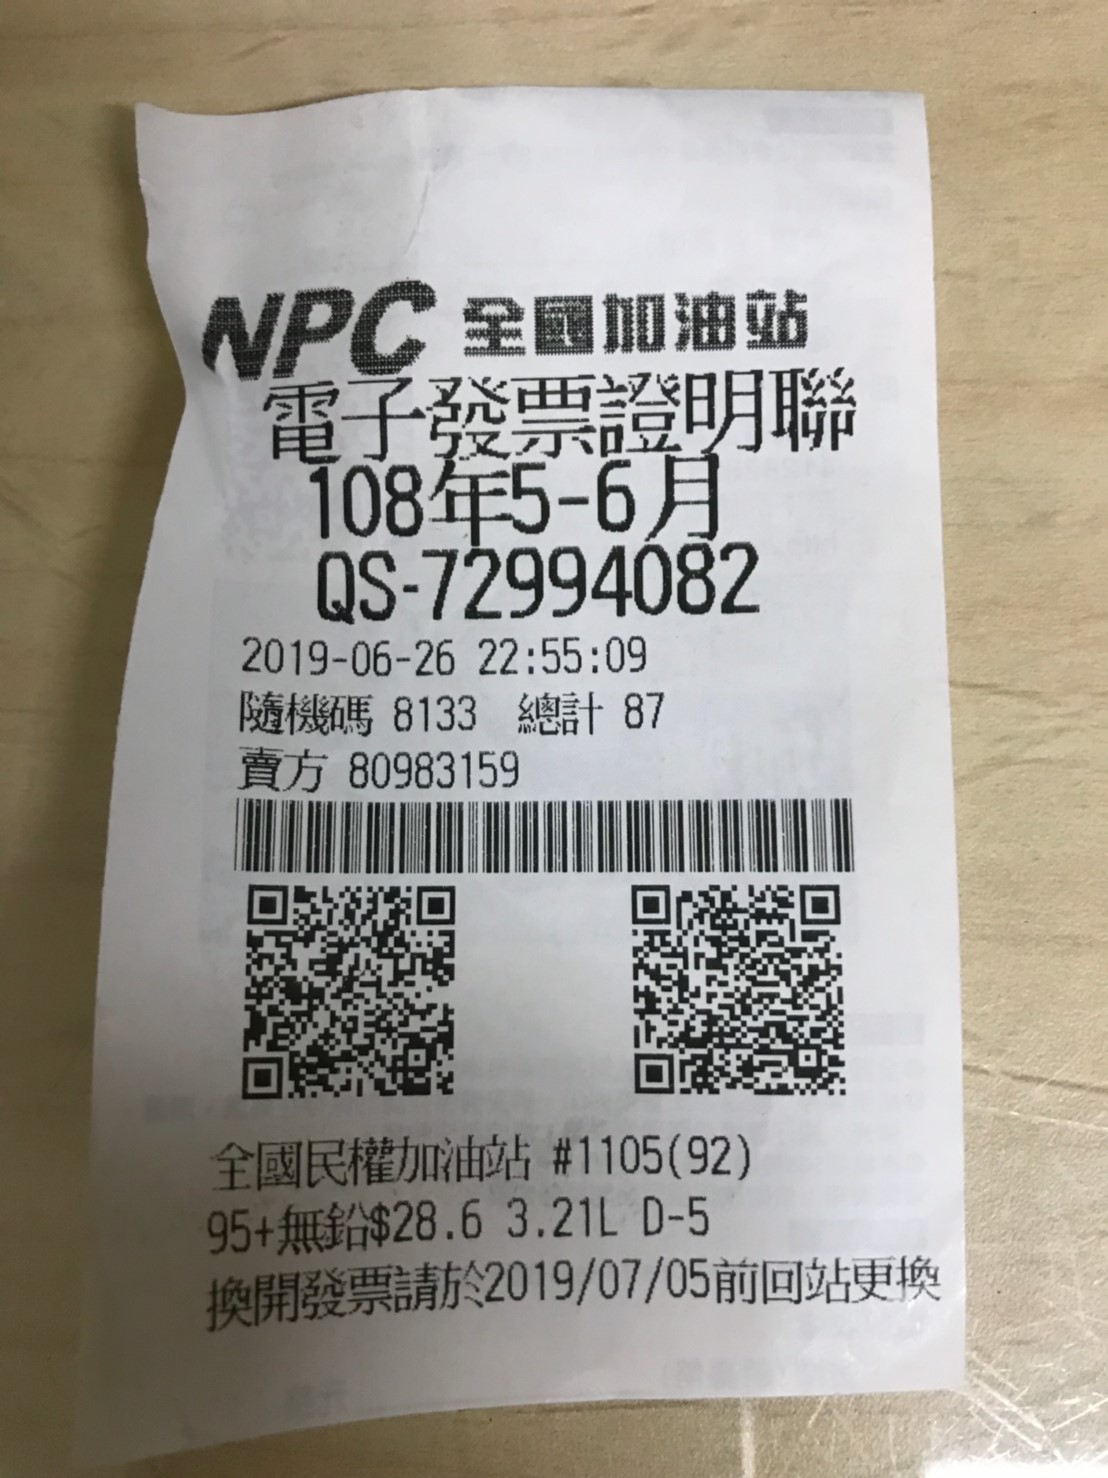Date_New: (306, 452, 724, 543)
Number_New: (422, 539, 765, 620)
